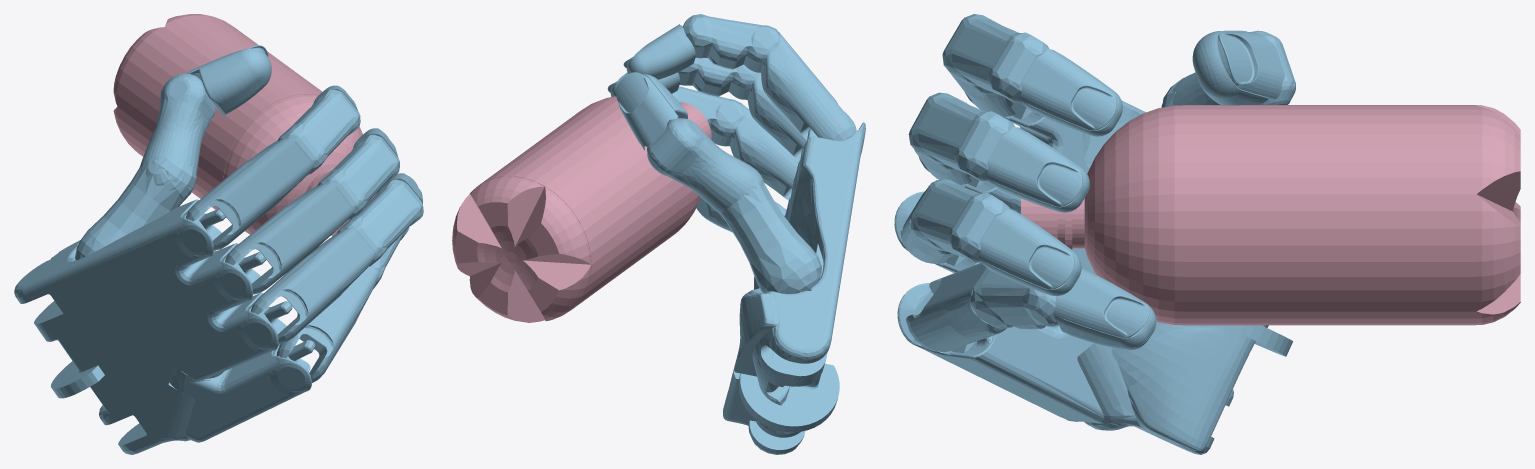
3 views of the same model, side by side, from view 1: azimuth 30°, elevation 25°; view 2: azimuth 150°, elevation 25°; view 3: azimuth 270°, elevation 25° (orthographic). The views are drawn at different scales.
Visible parts, largest first — view 1: world; view 2: world; view 3: world.
Boxes of the visible parts, left/top/right/bottom form: world: left=14, top=14, right=423, bottom=454; world: left=452, top=14, right=865, bottom=454; world: left=894, top=14, right=1520, bottom=454.
Bounding box in the file's own units: 0.1472 × 0.1541 × 0.1711.
